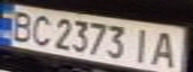2: (48, 16, 75, 52)
3: (106, 22, 130, 61), (66, 17, 90, 54)
7: (87, 19, 109, 57)
A: (148, 28, 184, 70)
B: (3, 8, 39, 43)
C: (27, 12, 54, 47)
I: (127, 26, 157, 65)
